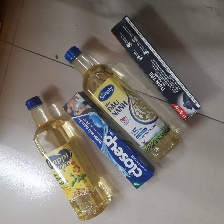CloseUp Tuyet: (62, 92, 155, 191)
Colgate Than: (109, 14, 202, 121)
Happy Soya: (24, 95, 113, 222)
Simply: (64, 46, 181, 165)
